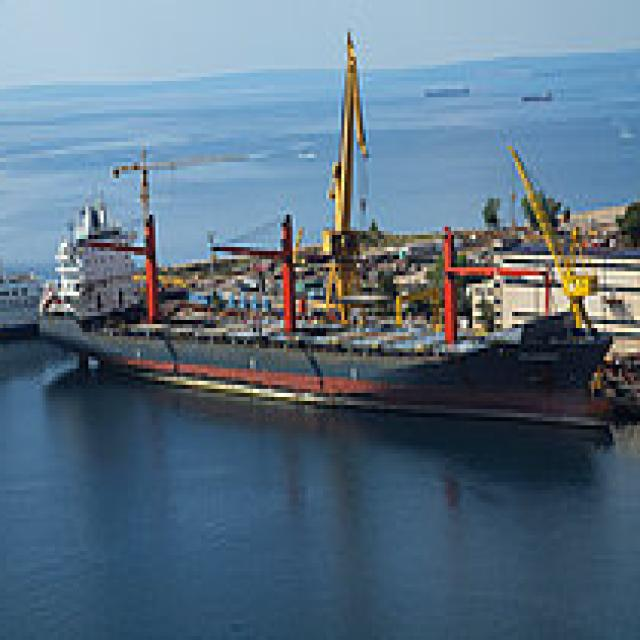Cargo: (39, 186, 622, 422)
